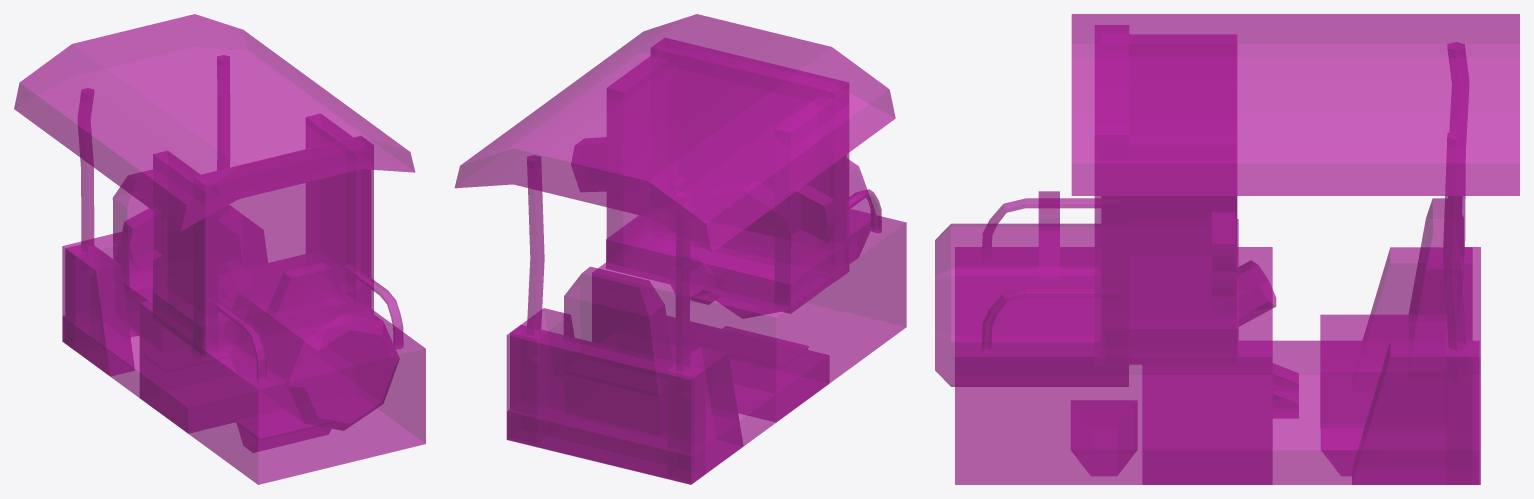
File: SM_Veh_Carnival_Train_01_Collision.fbx
The picture shows the model from 3 angles, left to right: view 1: azimuth 30°, elevation 25°; view 2: azimuth 150°, elevation 25°; view 3: azimuth 270°, elevation 25°; orthographic projection. The views are drawn at different scales.
Parts seen in each view (by area): view 1: SM_Veh_Carnival_Train_01_Collision; view 2: SM_Veh_Carnival_Train_01_Collision; view 3: SM_Veh_Carnival_Train_01_Collision.
Part boxes in pixels (x1,y1,x2,y2): SM_Veh_Carnival_Train_01_Collision: (14, 14, 425, 484); SM_Veh_Carnival_Train_01_Collision: (454, 14, 906, 484); SM_Veh_Carnival_Train_01_Collision: (935, 14, 1519, 484).
Size of the model in its own units: 185 by 224 by 298.
